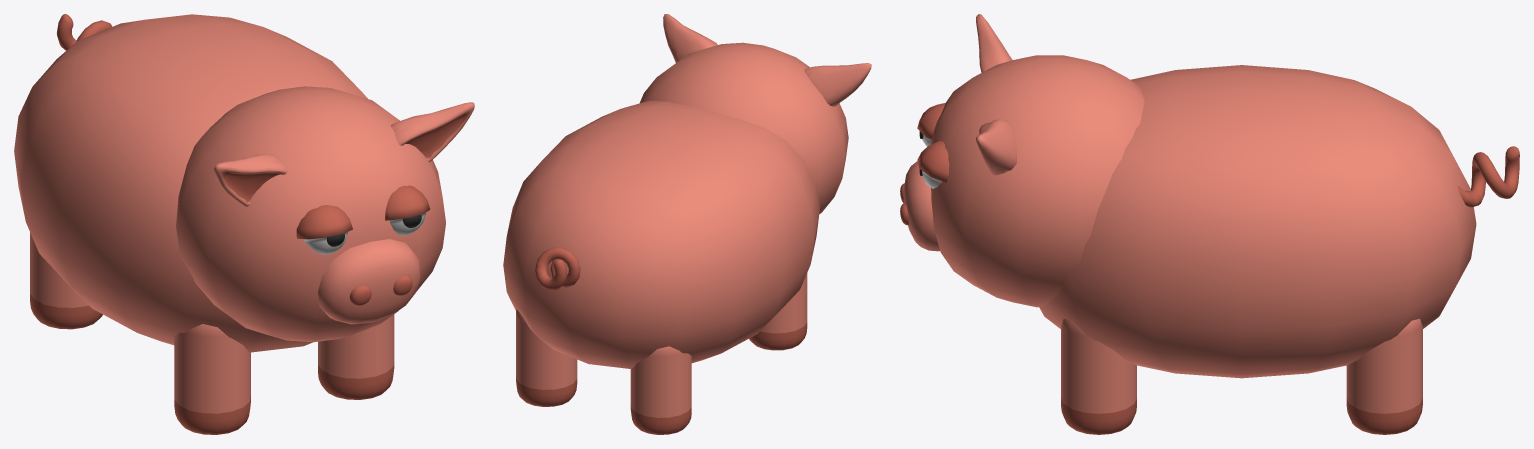
Rendered from Pig.fbx.
The picture shows the model from 3 angles, left to right: view 1: azimuth 30°, elevation 25°; view 2: azimuth 150°, elevation 25°; view 3: azimuth 270°, elevation 25°; orthographic projection. The views are drawn at different scales.
Visible parts, largest first — view 1: Pig; view 2: Pig; view 3: Pig.
Part boxes in pixels (x1,y1,x2,y2): Pig: (14,14,474,434); Pig: (503,14,871,434); Pig: (900,14,1519,434).
Size of the model in its own units: 79.63 by 79.95 by 140.
